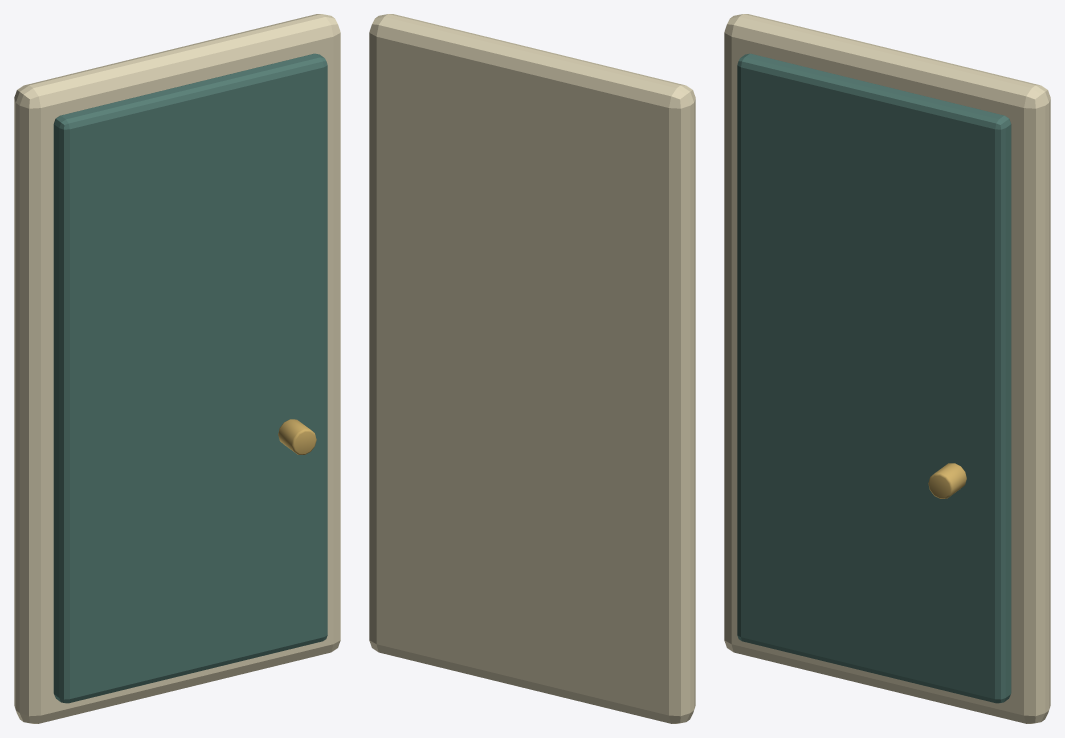
Rendered from SM_StationDoors.fbx.
The picture shows the model from 3 angles, left to right: view 1: azimuth 30°, elevation 25°; view 2: azimuth 150°, elevation 25°; view 3: azimuth 330°, elevation 25°; orthographic projection.
Parts seen in each view (by area): view 1: SM_StationDoors; view 2: SM_StationDoors; view 3: SM_StationDoors.
Part boxes in pixels (x1,y1,x2,y2): SM_StationDoors: (14,14,340,723); SM_StationDoors: (369,14,695,723); SM_StationDoors: (724,14,1050,723).
Bounding box in the file's own units: 142 × 36.5 × 270.
